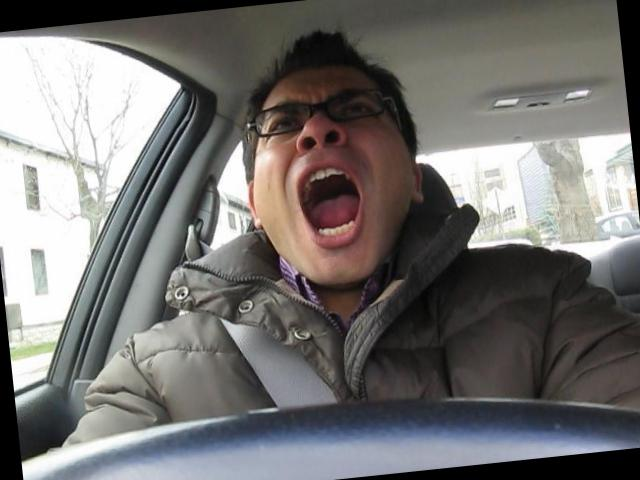eye_open: (336, 96, 374, 122), (264, 113, 304, 136)
face: (236, 62, 410, 299)
mouth_open: (292, 158, 372, 252)
